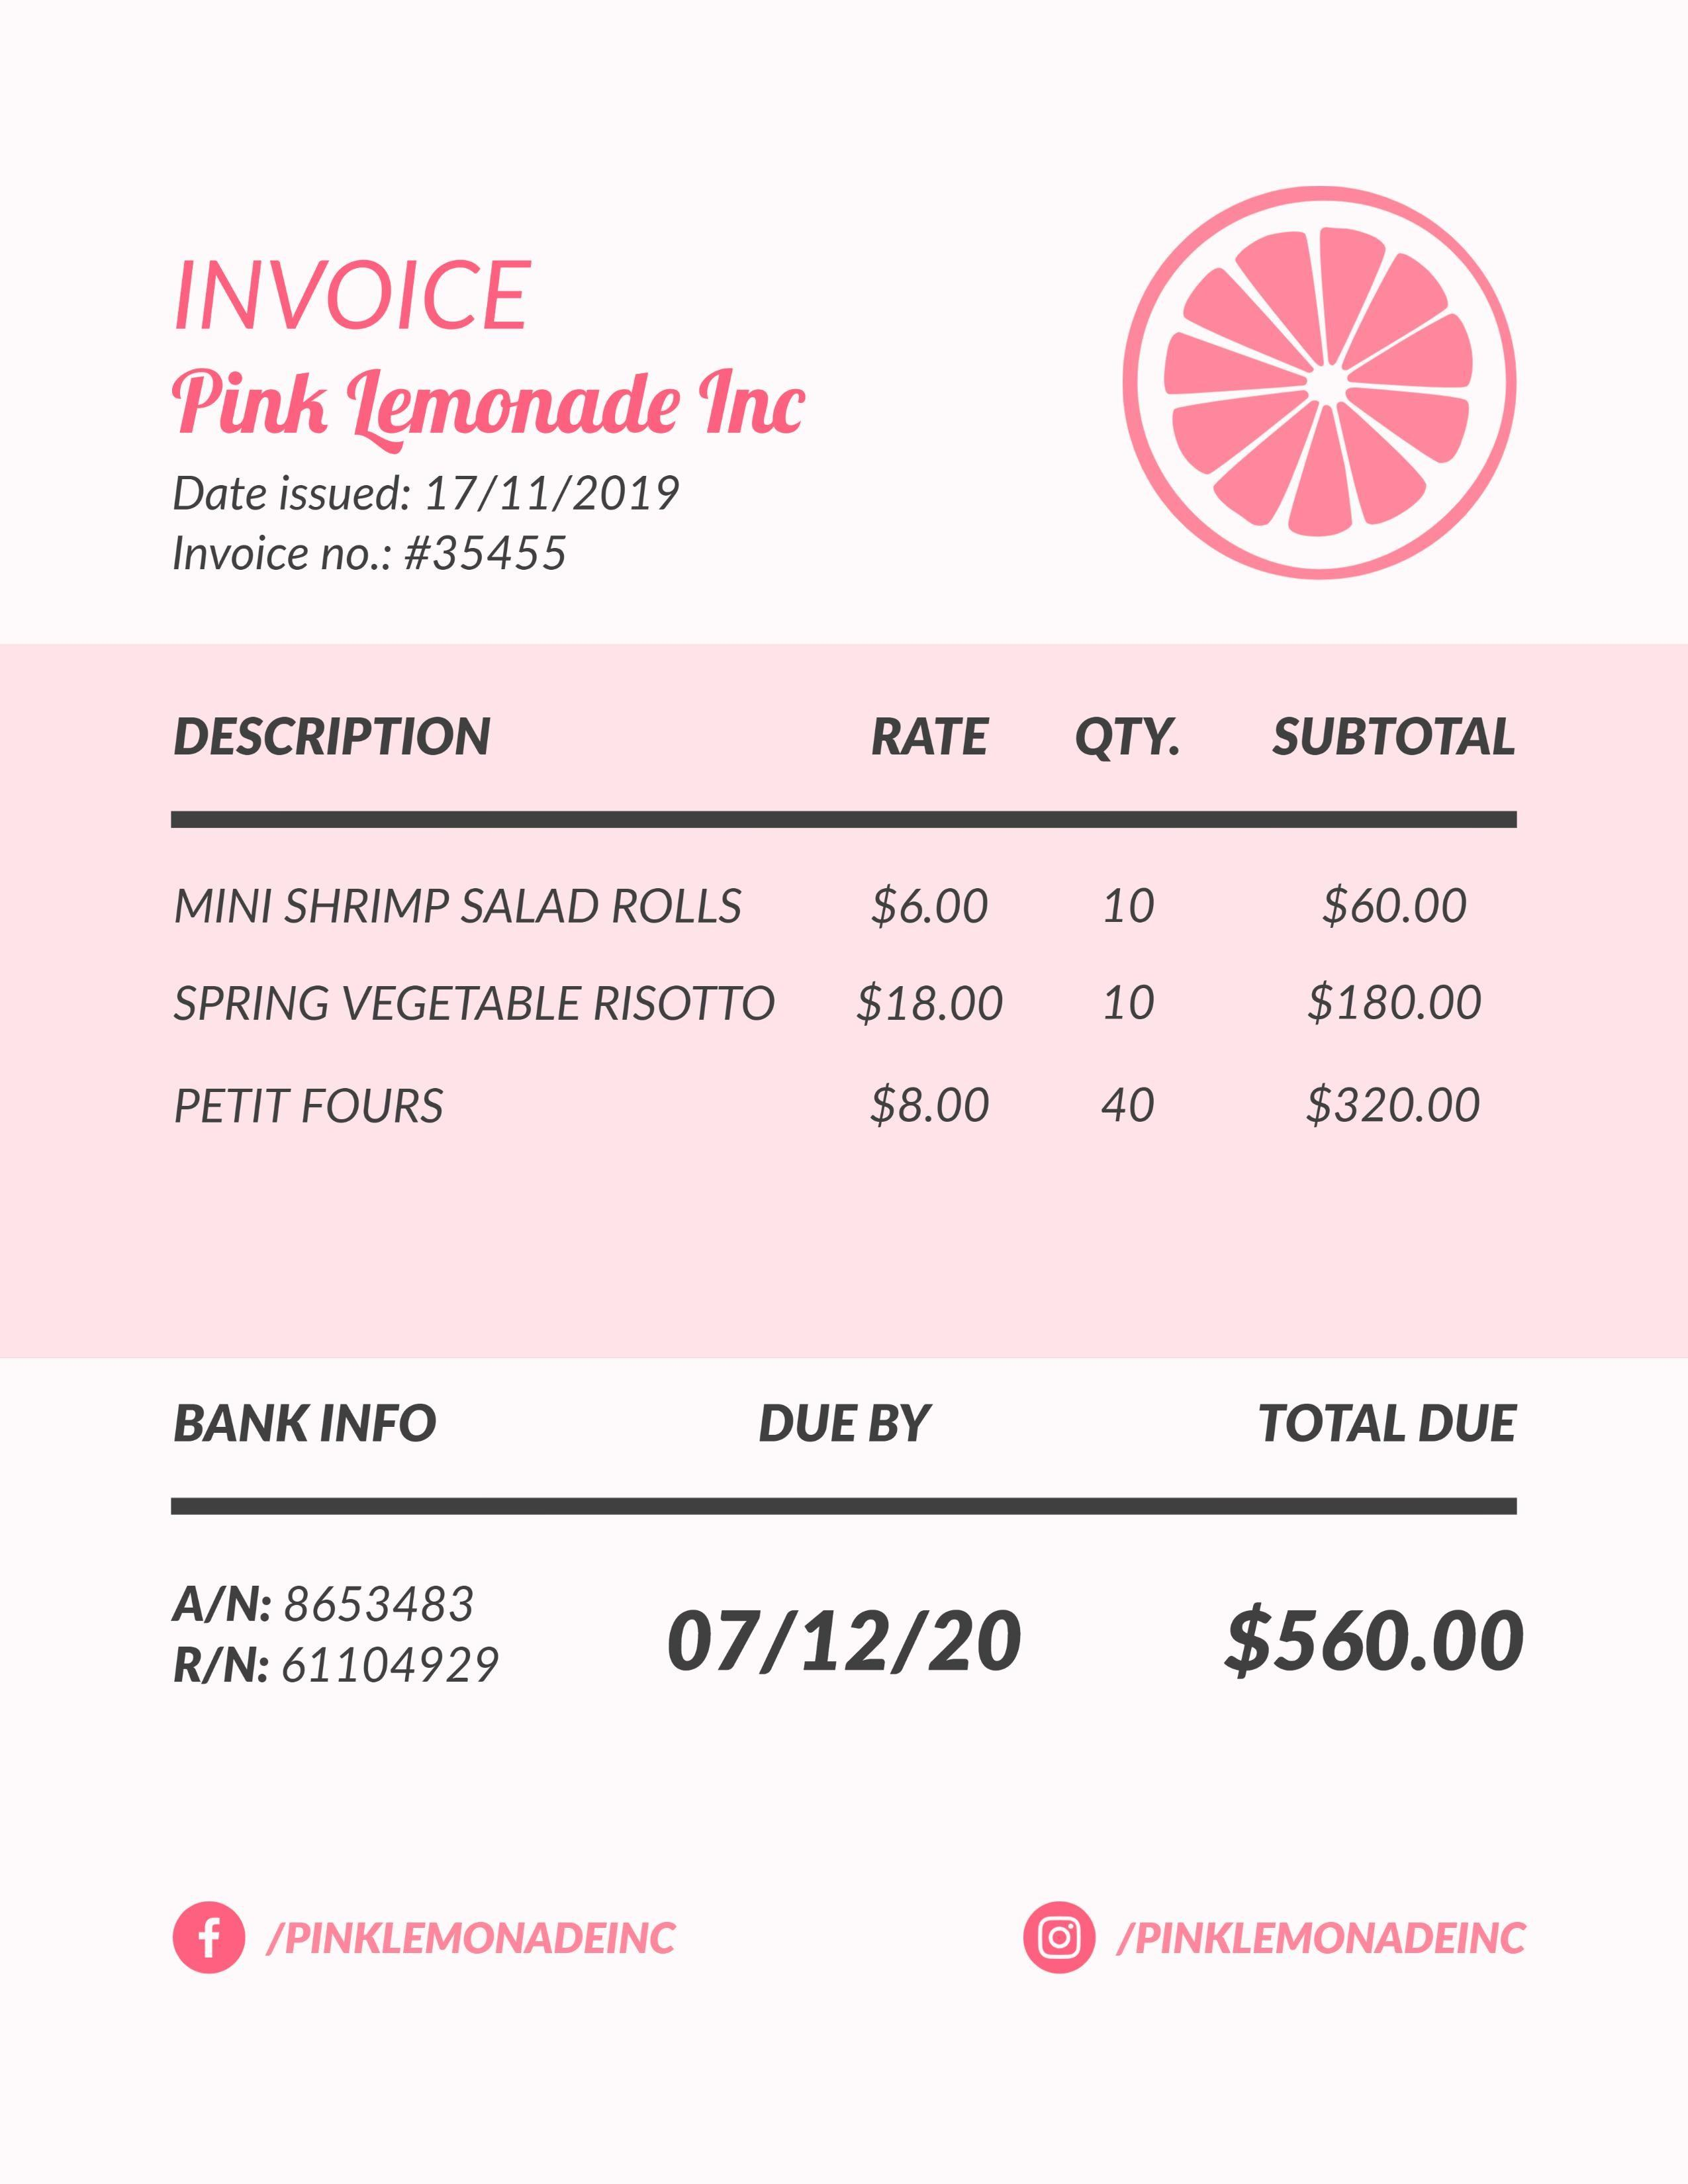ROI: (163, 700, 1528, 1138), (158, 1372, 1057, 1702), (1211, 1377, 1536, 1700), (151, 463, 697, 589), (163, 351, 830, 447)
